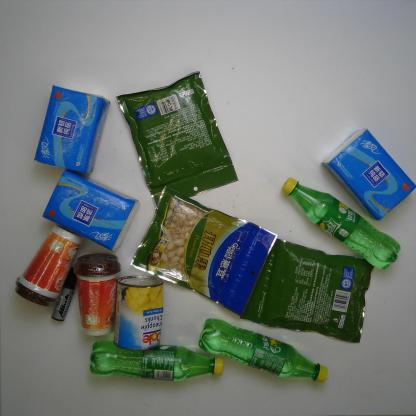Canned Food: (112, 272, 167, 351)
Dried Fruit: (129, 180, 282, 316), (114, 70, 243, 213), (236, 231, 380, 345)
Drink: (280, 176, 402, 271), (192, 318, 332, 386), (88, 337, 224, 382)
Instant Drink: (11, 222, 86, 312), (70, 245, 122, 340)
Stationery: (48, 266, 79, 323)
Tissue: (320, 126, 416, 222), (41, 168, 143, 253), (30, 83, 112, 178)
